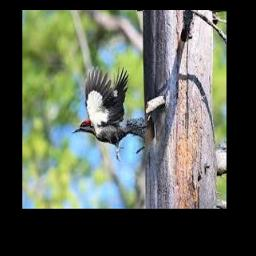Woodpecker: (71, 66, 149, 161)
